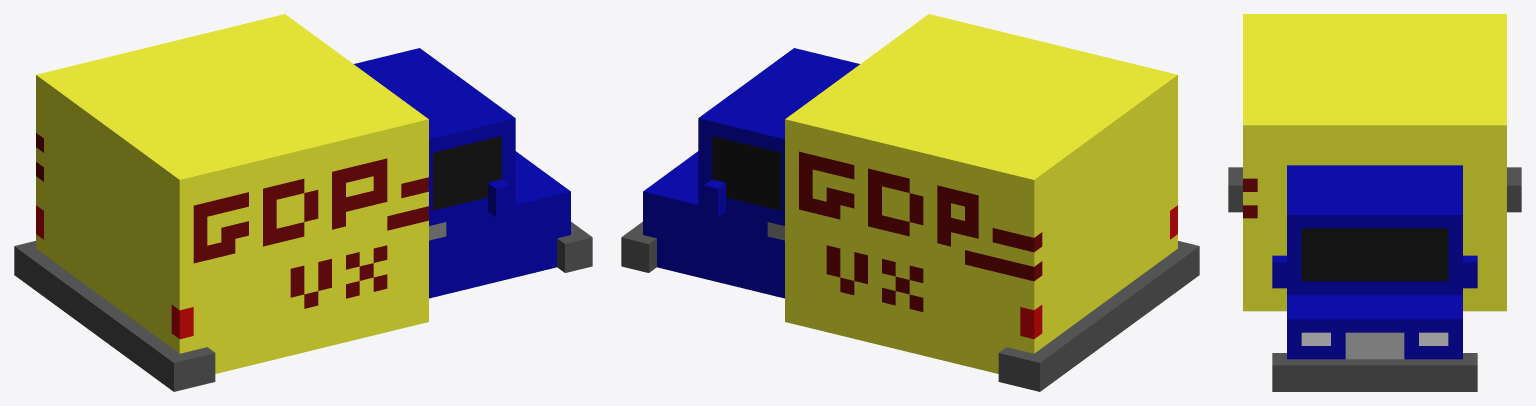
Rendered from truck-1.obj.
3 views of the same model, side by side, from view 1: azimuth 30°, elevation 25°; view 2: azimuth 150°, elevation 25°; view 3: azimuth 270°, elevation 25° (orthographic). The views are drawn at different scales.
Bounding box in the file's own units: 3.2 × 1.4 × 2.
Materials: 1 (1 with a texture image).
